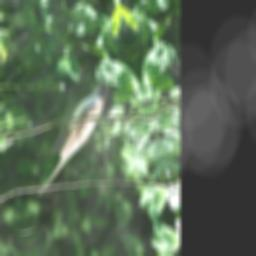Cuckoo: (10, 75, 133, 197)
